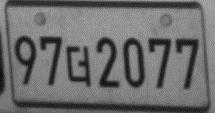0: (122, 37, 145, 88)
2: (95, 36, 120, 88)
7: (147, 37, 171, 89), (175, 37, 199, 89), (39, 35, 62, 86)
9: (13, 35, 36, 84)
더: (65, 45, 91, 88)
